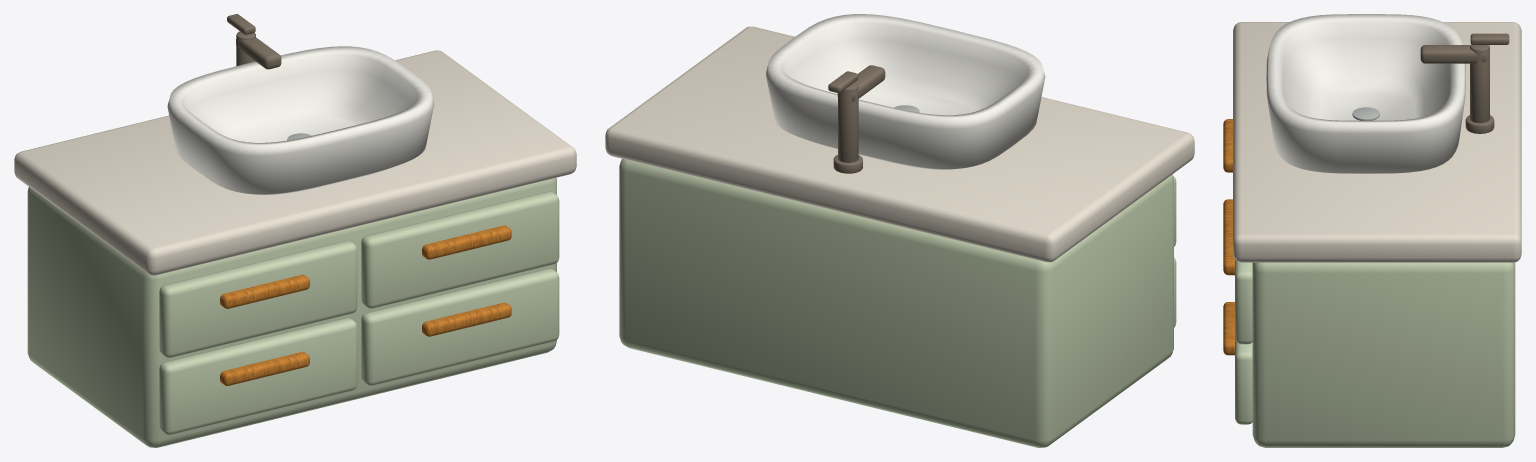
Rendered from floating-bath-vanity.glb.
3 views of the same model, side by side, from view 1: azimuth 30°, elevation 25°; view 2: azimuth 150°, elevation 25°; view 3: azimuth 270°, elevation 25° (orthographic). The views are drawn at different scales.
Parts seen in each view (by area): view 1: floating-bath-vanity; view 2: floating-bath-vanity; view 3: floating-bath-vanity.
Boxes of the visible parts, x1,y1,x2,y2 form: floating-bath-vanity: (14, 14, 576, 447); floating-bath-vanity: (605, 14, 1194, 447); floating-bath-vanity: (1223, 14, 1521, 447).
Bounding box in the file's own units: 0.9 × 0.6 × 0.52.
6 materials, 1 textured.
